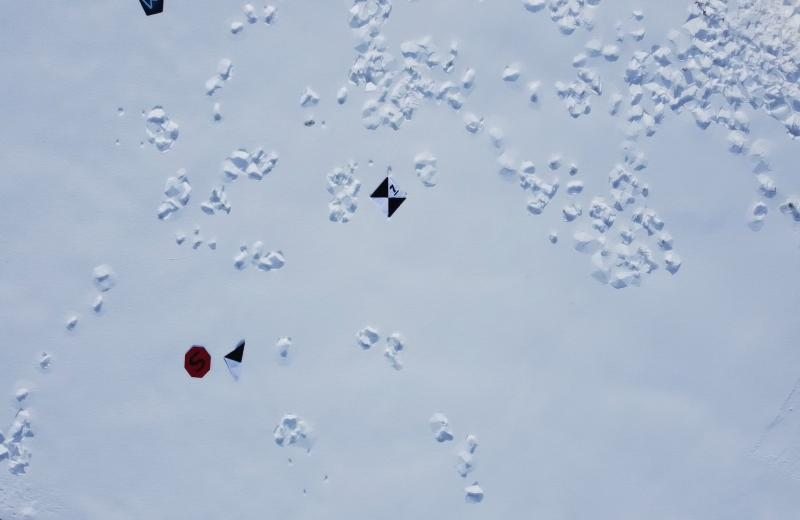Octagon: (182, 342, 214, 382)
Pentagon: (134, 0, 170, 22)
